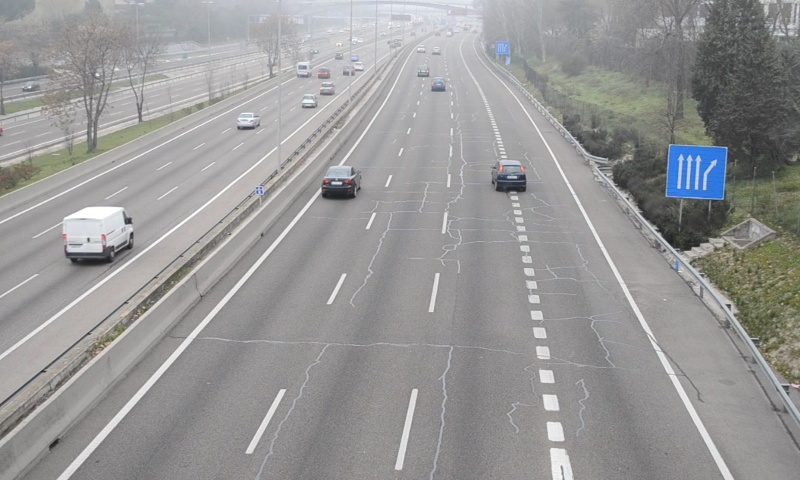car: (322, 166, 361, 195), (491, 161, 525, 190), (430, 76, 446, 92)
